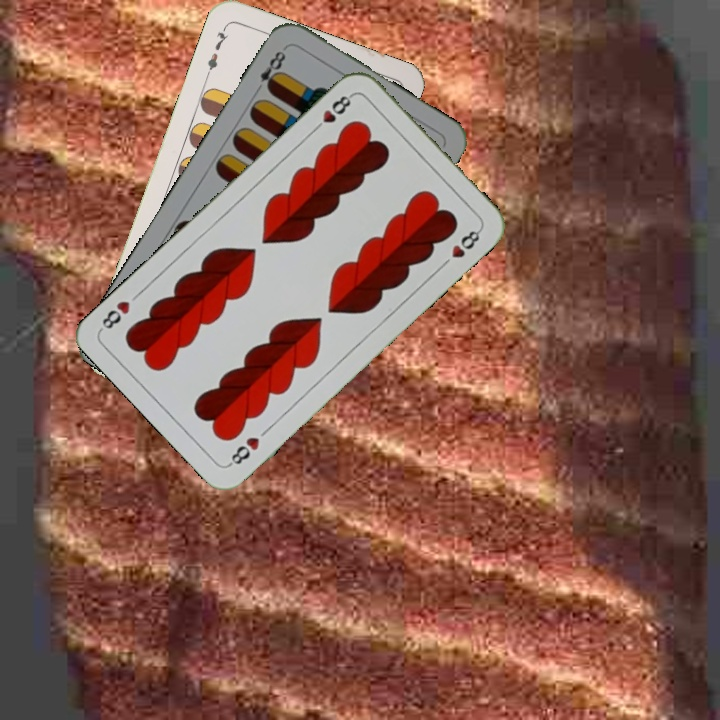E7: (202, 22, 230, 79)
E8: (251, 43, 289, 96)
H8: (309, 90, 356, 135), (225, 433, 262, 469)
